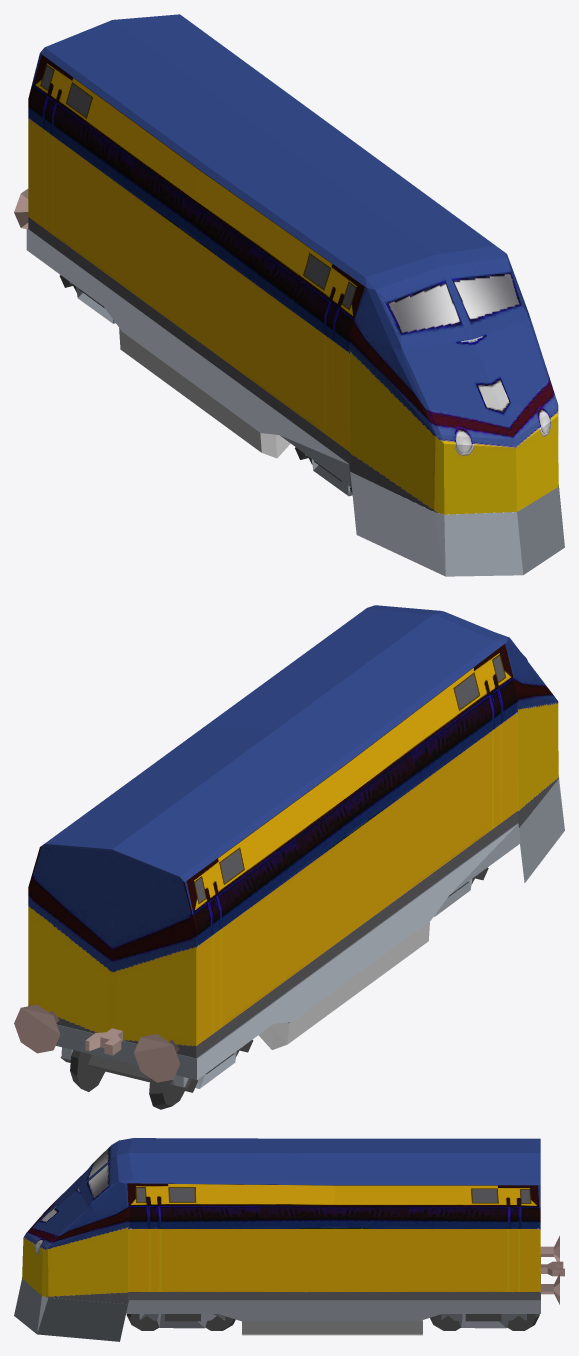
File: locomotive.dae
3 renders of one model, top to bottom at view 1: azimuth 30°, elevation 25°; view 2: azimuth 150°, elevation 25°; view 3: azimuth 270°, elevation 25°, orthographic. The views are drawn at different scales.
Parts seen in each view (by area): view 1: 9.0.242.0_Pts_Material__5__Surf, 9.0.242.0_Pts_Material__3__Surf, 9.0.242.0_Pts_Material_Surf, 9.0.242.0_Pts_Material__2__Surf; view 2: 9.0.242.0_Pts_Material__5__Surf, 9.0.242.0_Pts_Material__3__Surf, 9.0.242.0_Pts_Material__4__Surf, 9.0.242.0_Pts_Material_Surf, 9.0.242.0_Pts_Material__6__Surf, 9.0.242.0_Pts_Material__2__Surf; view 3: 9.0.242.0_Pts_Material__5__Surf, 9.0.242.0_Pts_Material__3__Surf, 9.0.242.0_Pts_Material_Surf, 9.0.242.0_Pts_Material__6__Surf, 9.0.242.0_Pts_Material__2__Surf, 9.0.242.0_Pts_Material__4__Surf.
Boxes of the visible parts, bbox=[...] form: 9.0.242.0_Pts_Material__5__Surf: bbox=[28, 14, 558, 514]; 9.0.242.0_Pts_Material__3__Surf: bbox=[26, 229, 564, 576]; 9.0.242.0_Pts_Material_Surf: bbox=[119, 328, 290, 458]; 9.0.242.0_Pts_Material__2__Surf: bbox=[76, 286, 372, 496]; 9.0.242.0_Pts_Material__5__Surf: bbox=[28, 605, 558, 1058]; 9.0.242.0_Pts_Material__3__Surf: bbox=[56, 775, 564, 1079]; 9.0.242.0_Pts_Material__4__Surf: bbox=[14, 1004, 180, 1082]; 9.0.242.0_Pts_Material_Surf: bbox=[258, 921, 429, 1049]; 9.0.242.0_Pts_Material__6__Surf: bbox=[60, 867, 488, 1109]; 9.0.242.0_Pts_Material__2__Surf: bbox=[61, 879, 472, 1088]; 9.0.242.0_Pts_Material__5__Surf: bbox=[22, 1138, 540, 1304]; 9.0.242.0_Pts_Material__3__Surf: bbox=[14, 1256, 540, 1341]; 9.0.242.0_Pts_Material_Surf: bbox=[242, 1320, 422, 1335]; 9.0.242.0_Pts_Material__6__Surf: bbox=[126, 1314, 539, 1330]; 9.0.242.0_Pts_Material__2__Surf: bbox=[139, 1314, 526, 1328]; 9.0.242.0_Pts_Material__4__Surf: bbox=[540, 1235, 564, 1304].
Bounding box in the file's own units: 3.22 × 4.71 × 14.11.
6 materials, 1 textured.
